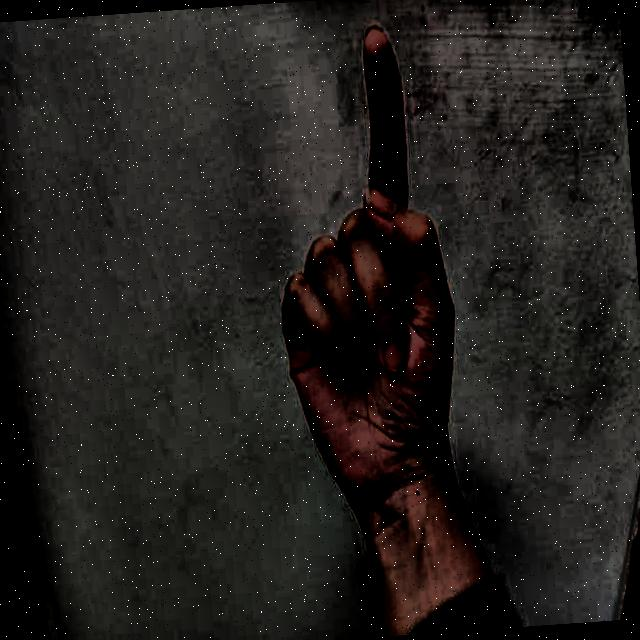U: (248, 0, 480, 526)
